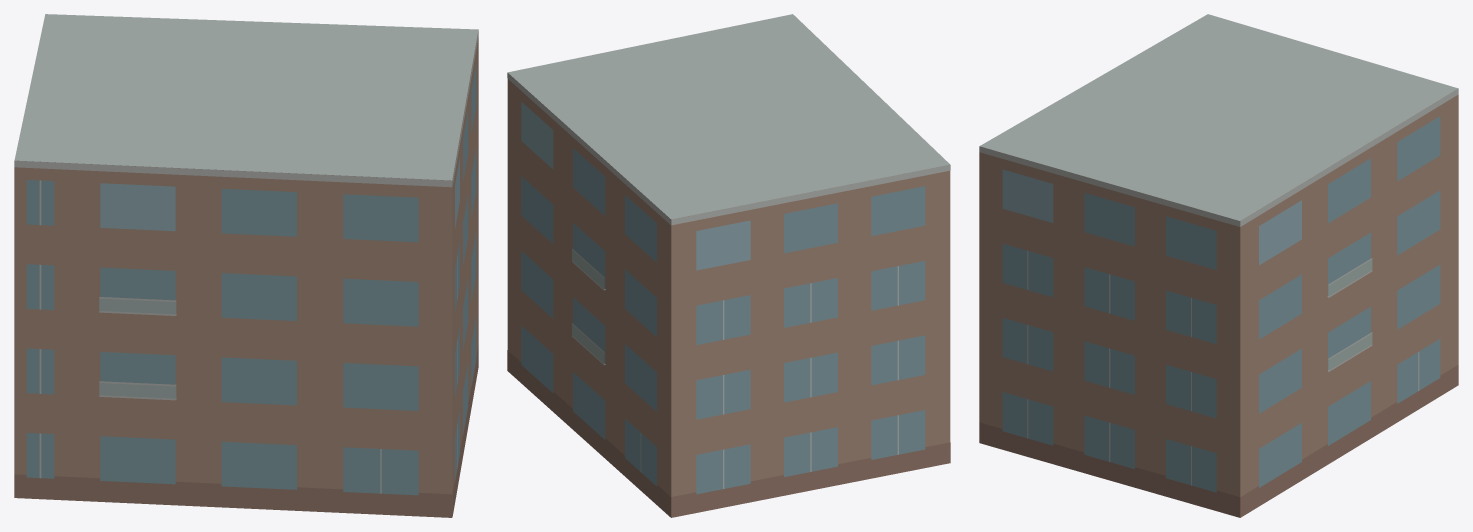
File: survey-upis-32614278.glb
3 renders of one model, left to right at view 1: azimuth 30°, elevation 25°; view 2: azimuth 150°, elevation 25°; view 3: azimuth 270°, elevation 25°, orthographic. The views are drawn at different scales.
Visible parts, largest first — view 1: survey-upis-32614278.tmp; view 2: survey-upis-32614278.tmp; view 3: survey-upis-32614278.tmp.
Boxes of the visible parts, x1,y1,x2,y2 form: survey-upis-32614278.tmp: [14, 14, 478, 517]; survey-upis-32614278.tmp: [507, 14, 950, 517]; survey-upis-32614278.tmp: [979, 14, 1458, 517].
Bounding box in the file's own units: 18.27 × 12.2 × 17.86.
